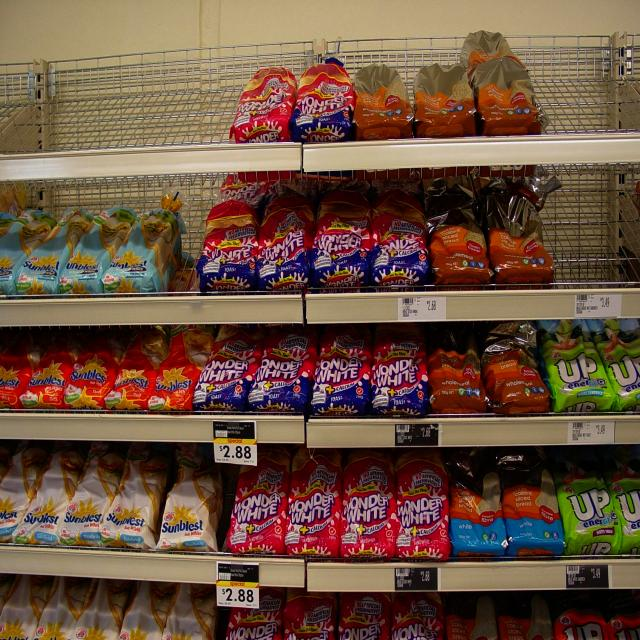empty_space: (10, 61, 221, 139), (543, 54, 640, 128), (552, 198, 640, 278), (184, 205, 196, 291)
